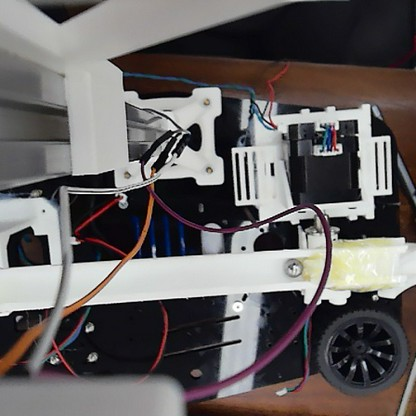ironball: (282, 257, 303, 278)
